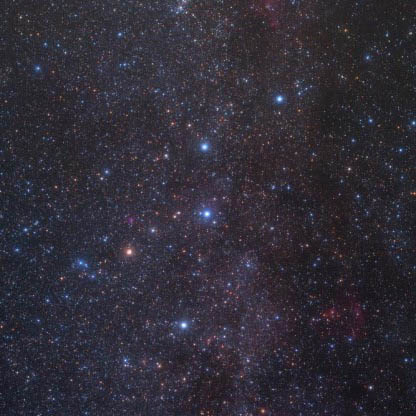Cassiopeia: (122, 224, 159, 264), (193, 198, 230, 226), (267, 86, 293, 115), (190, 135, 216, 162), (171, 313, 193, 333)
